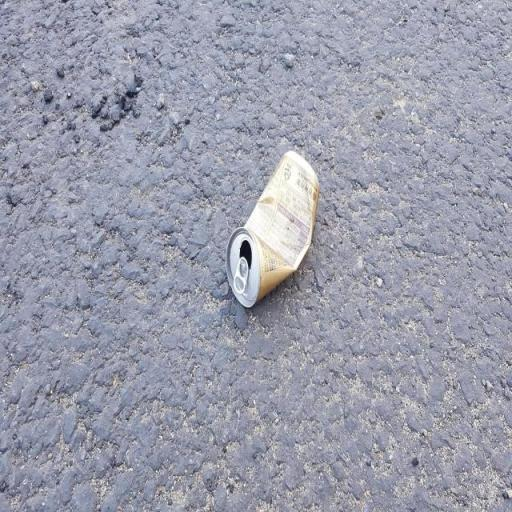metal: (212, 138, 334, 336)
